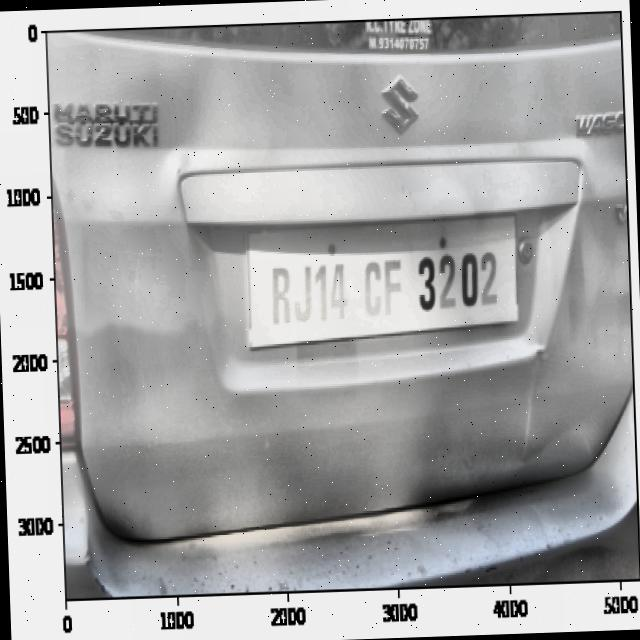license_plate: (260, 234, 506, 336)
